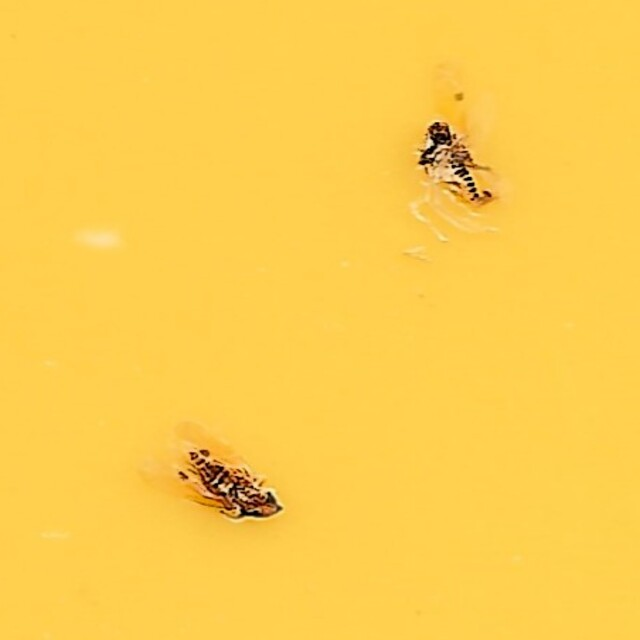Hemiptera: (142, 424, 282, 521), (413, 119, 498, 215)
